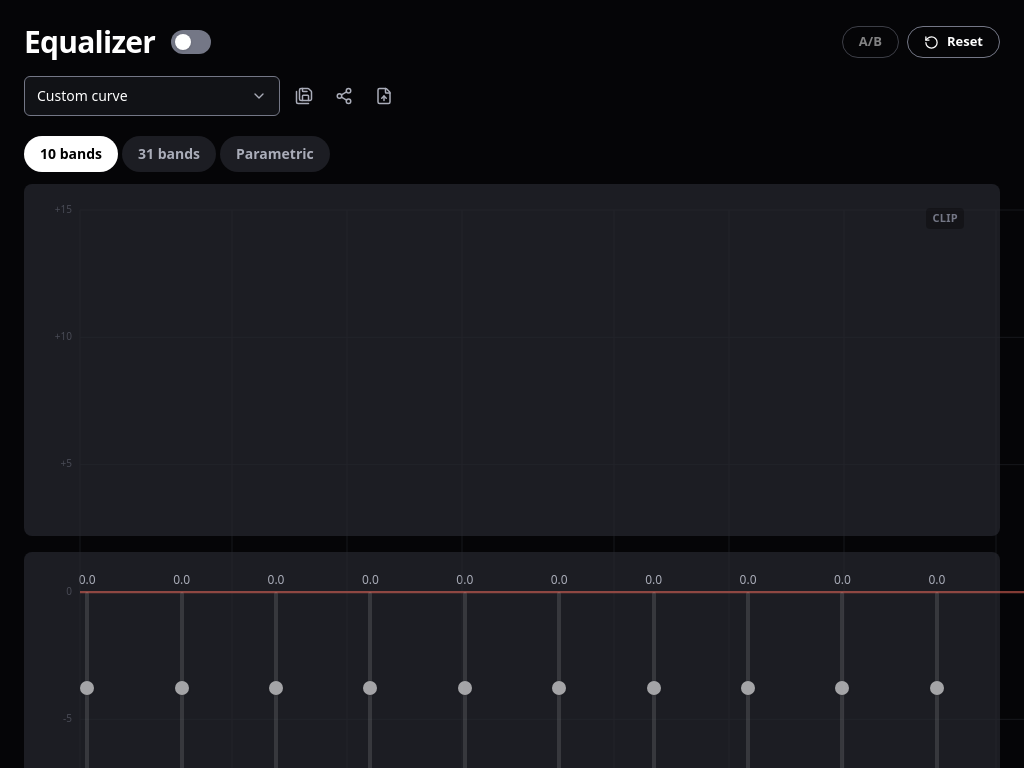
Test: EqualizerPage › parametric mode › shows the engine's error when the import fails (browser preview)
Click the button named "Import AutoEQ profile" at (384, 96), box [368,80,400,112]
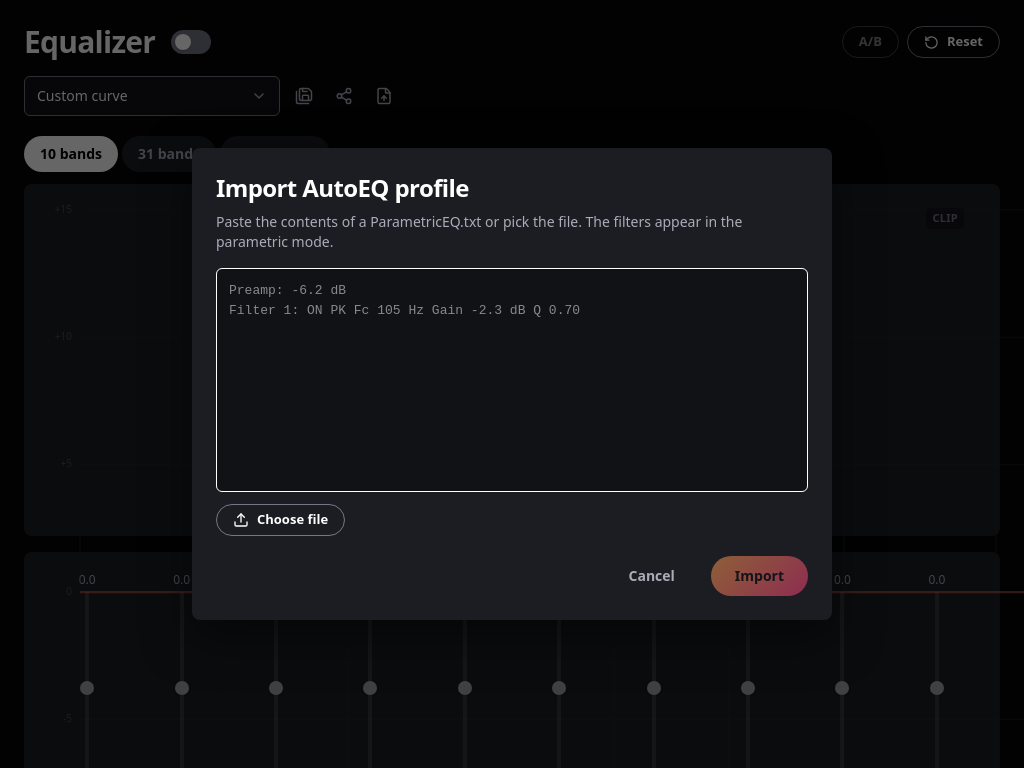
Replace the text in the text box named "Profile text" with "Preamp: -3 dB" at (512, 380), box [216,268,808,492]
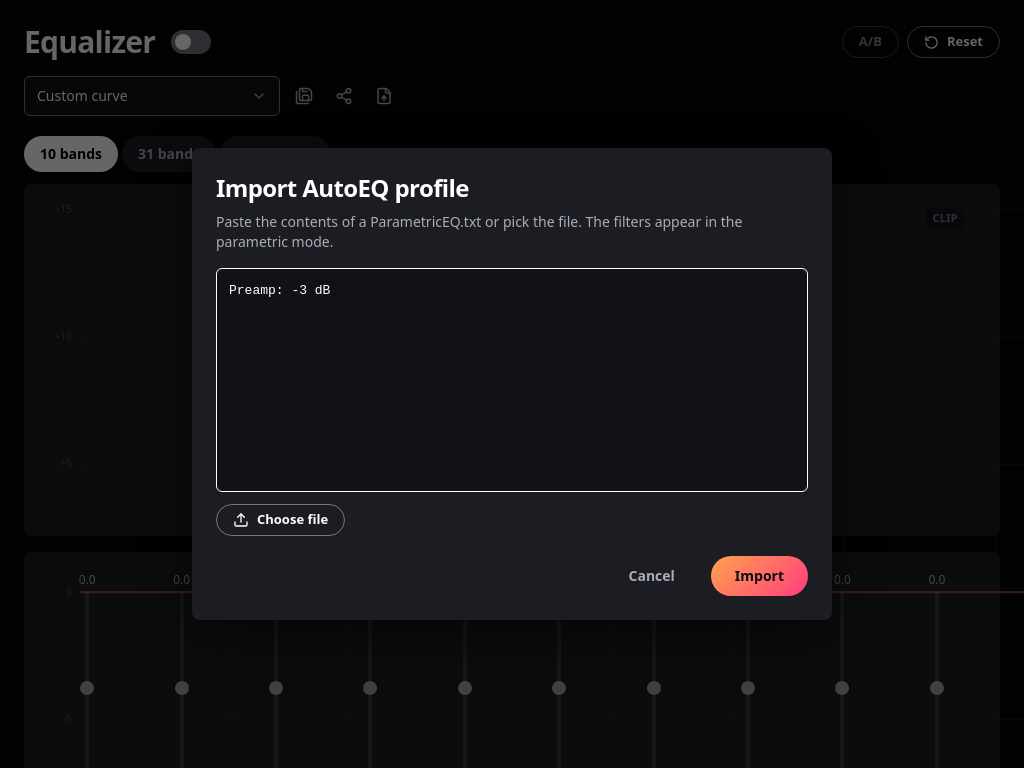
Click the button "Import" at (759, 576), box [711,556,808,596]
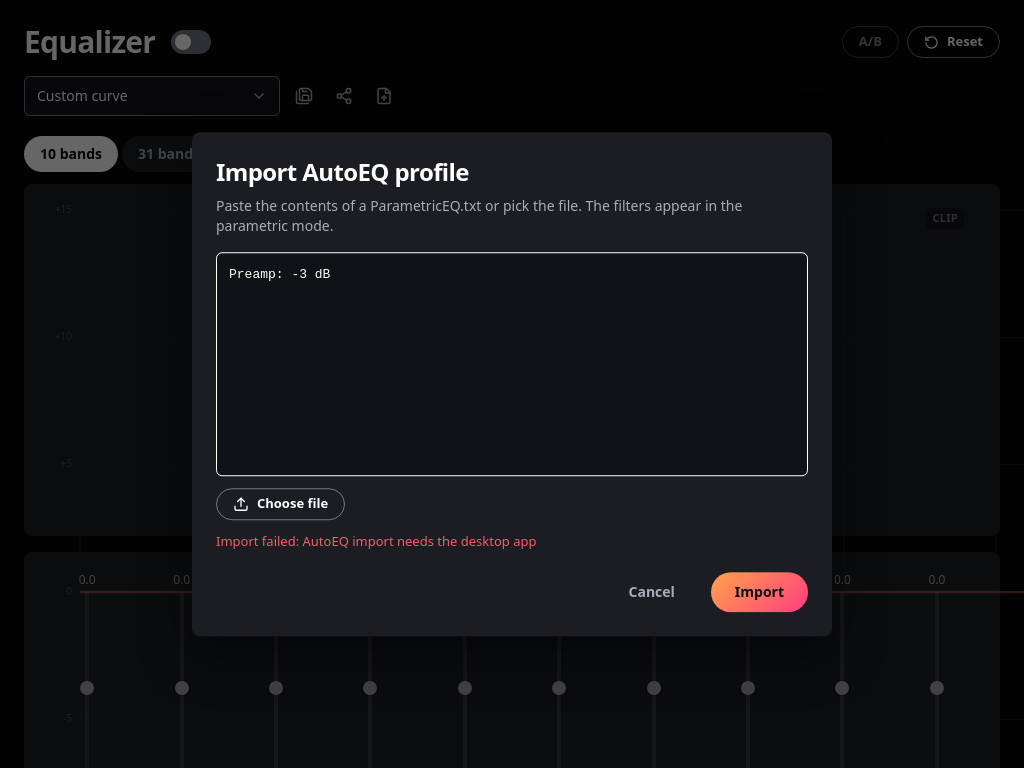
Now the message reads "Import failed: AutoEQ import needs the desktop app", box [216,532,536,550]
